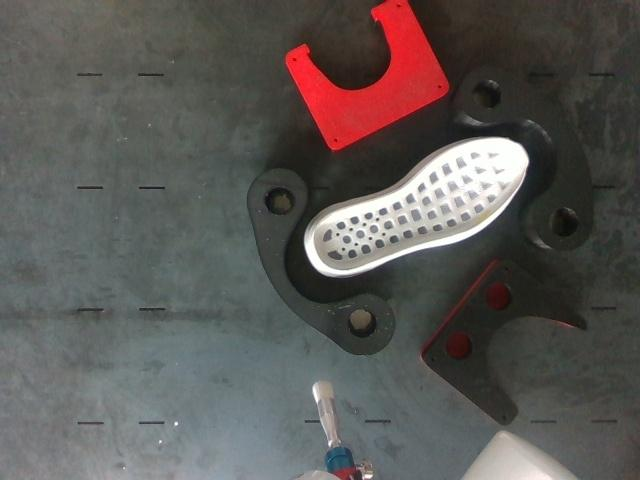shoes: (312, 138, 529, 273)
